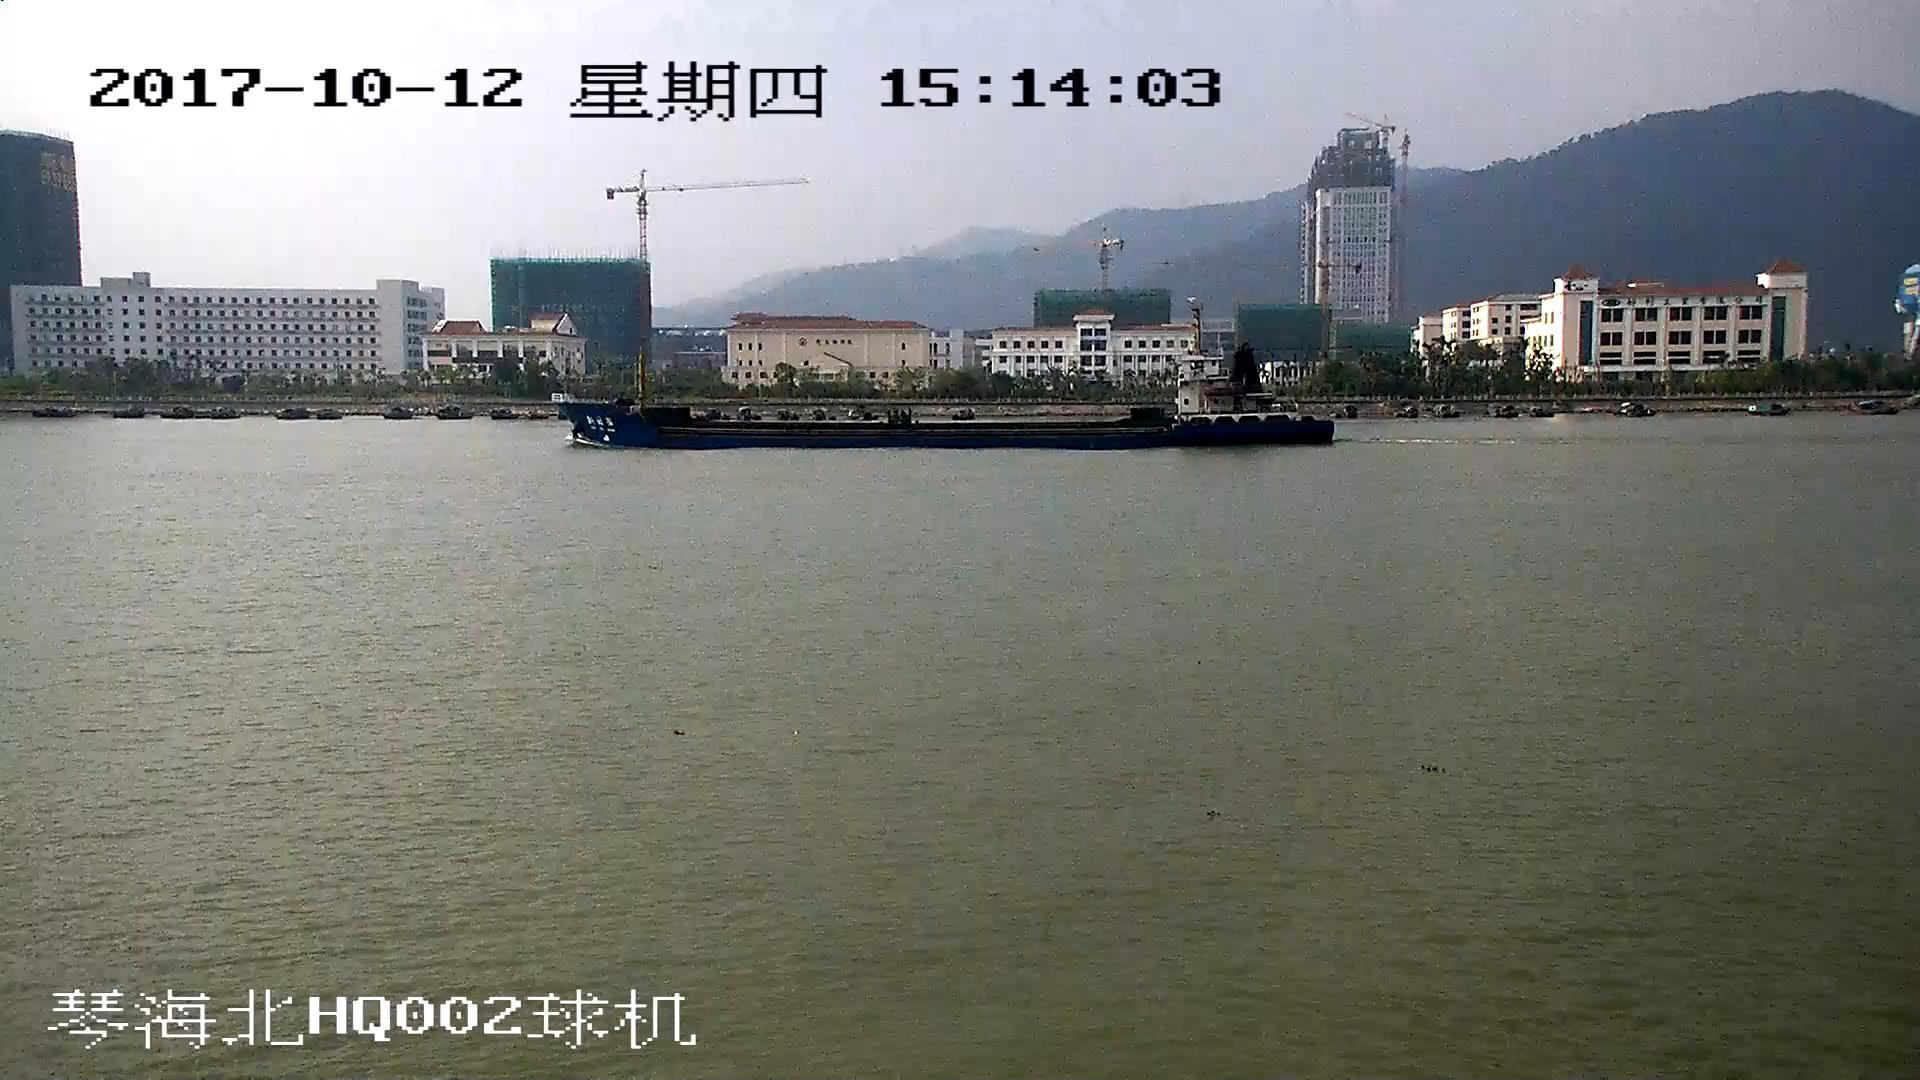general cargo ship: (553, 321, 1337, 453)
